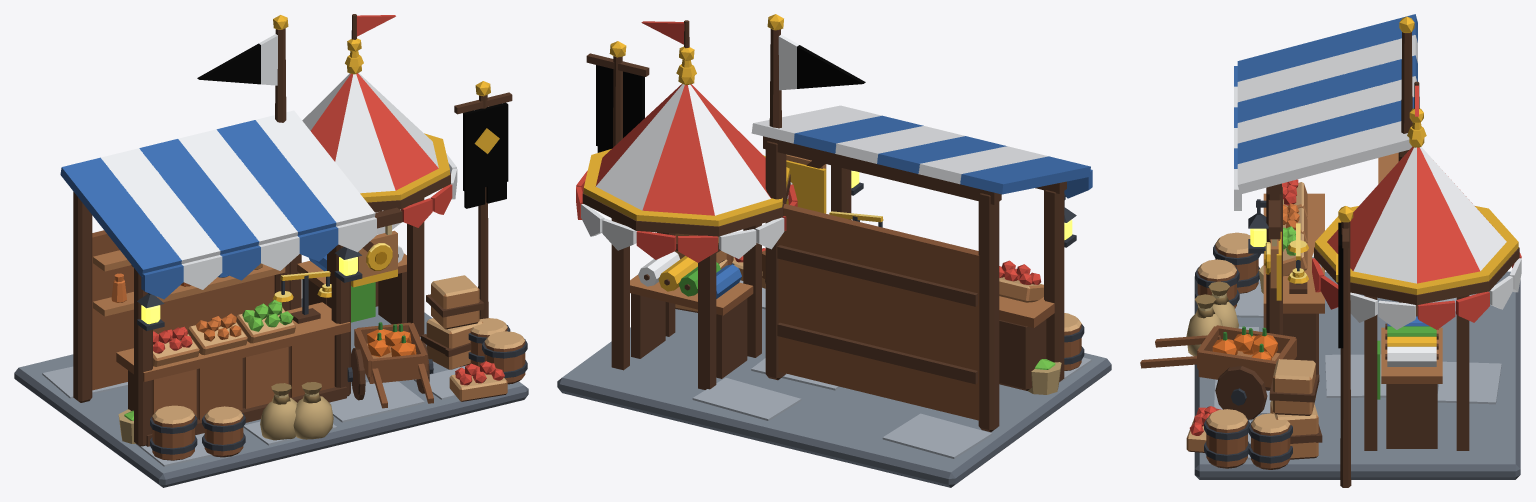
File: Bld_Market_L3.fbx
3 renders of one model, left to right at view 1: azimuth 30°, elevation 25°; view 2: azimuth 150°, elevation 25°; view 3: azimuth 270°, elevation 25°, orthographic. The views are drawn at different scales.
Visible parts, largest first — view 1: Bld_Market_L3; view 2: Bld_Market_L3; view 3: Bld_Market_L3.
Part boxes in pixels (left/top/right/bottom): Bld_Market_L3: left=14, top=14, right=528, bottom=487; Bld_Market_L3: left=557, top=14, right=1111, bottom=487; Bld_Market_L3: left=1140, top=14, right=1521, bottom=487.
Bounding box in the file's own units: 4.87 × 3.91 × 3.52.
